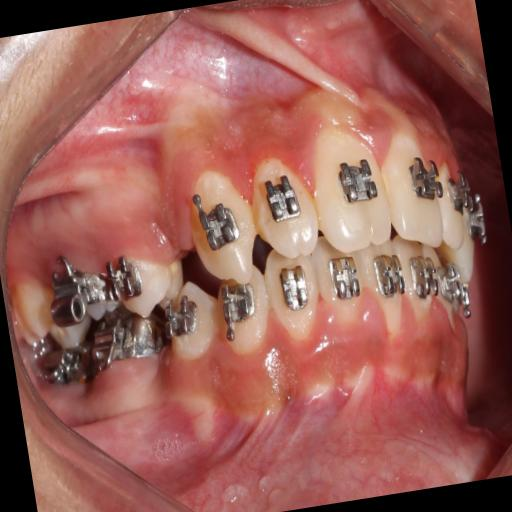correct_brace: (104, 229, 186, 320), (334, 148, 380, 213), (258, 166, 304, 228), (405, 150, 448, 208), (199, 198, 240, 258)
incorrect_brace: (244, 148, 320, 268), (104, 246, 146, 305)
